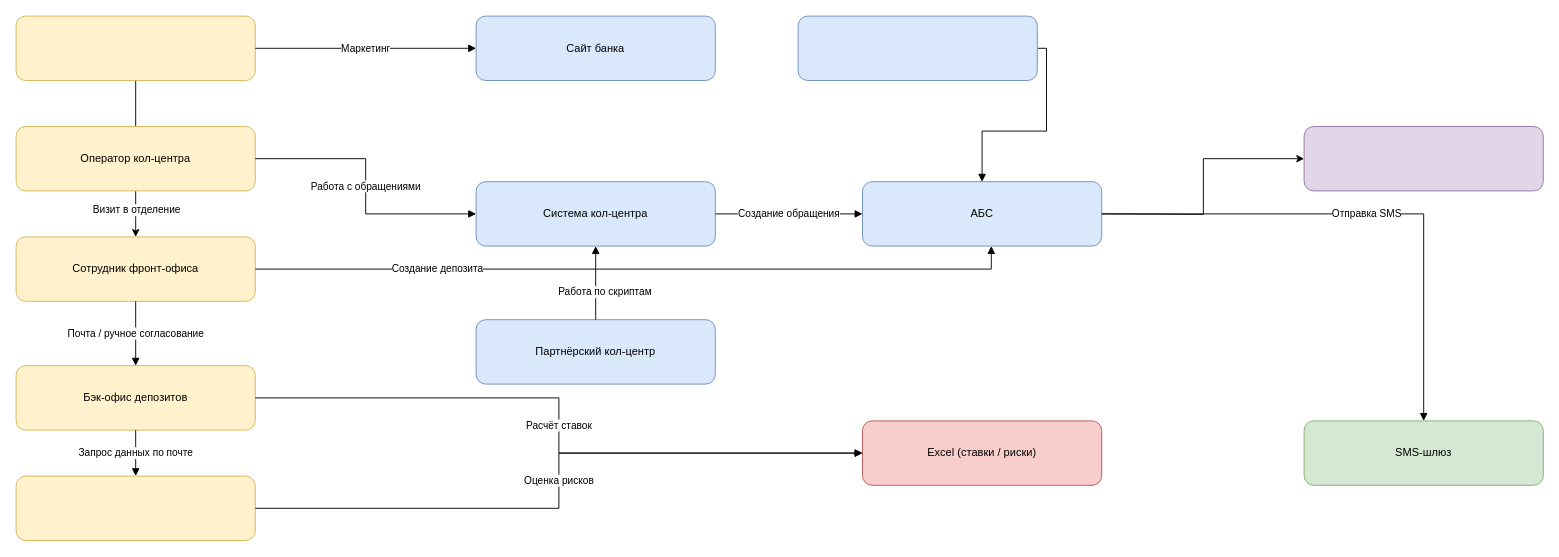
This 1559x557 diagram has some shape labels left out. Each missing label, with the centre of its shape:
"БД АБС" goes at (x=1423, y=158).
"Бэк-офис кредитов" goes at (x=135, y=507).
"Интернет-банк" goes at (x=917, y=47).
"Клиент" goes at (x=135, y=47).
